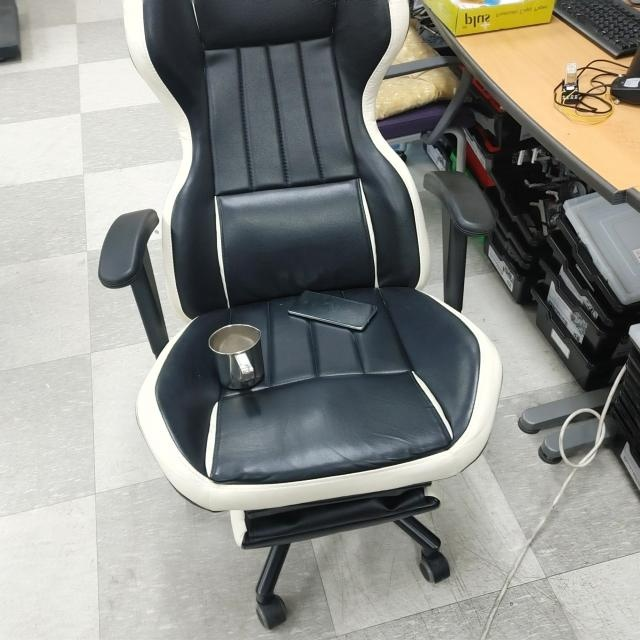cup: (210, 323, 265, 391)
phone: (289, 285, 378, 338)
